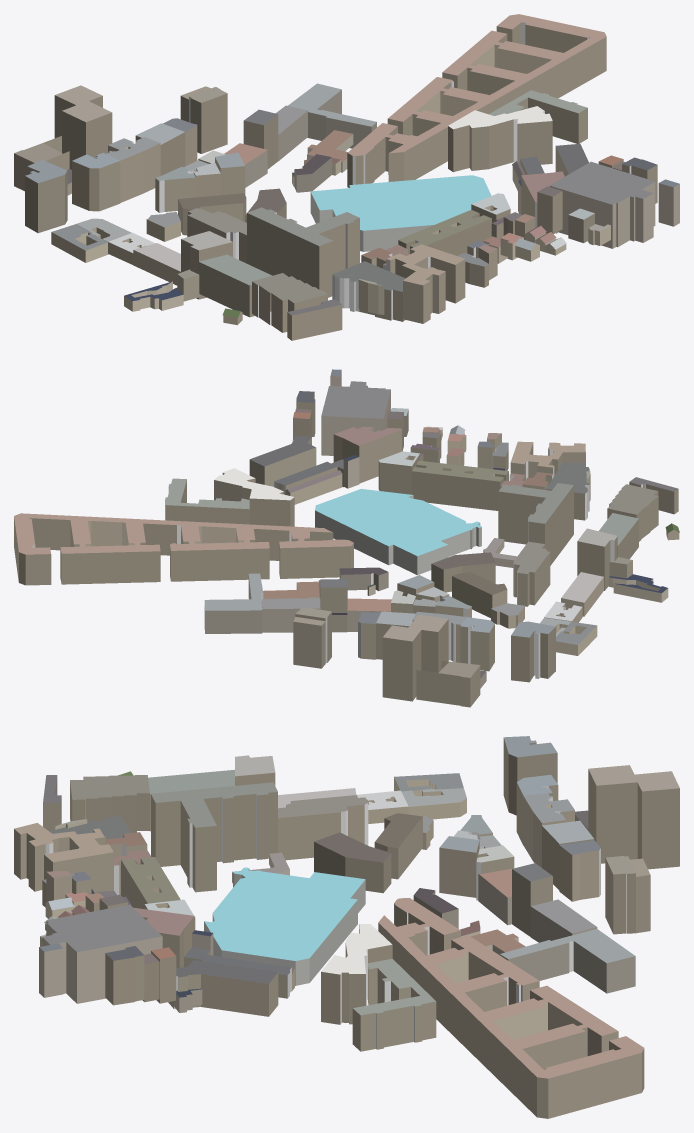
3 renders of one model, top to bottom at view 1: azimuth 30°, elevation 25°; view 2: azimuth 150°, elevation 25°; view 3: azimuth 270°, elevation 25°, orthographic. The views are drawn at different scales.
Parts seen in each view (by area): view 1: tuile; view 2: tuile; view 3: tuile.
Boxes of the visible parts, x1,y1,x2,y2 form: tuile: (14,14,679,340); tuile: (14,369,679,707); tuile: (14,736,679,1118).
Bounding box in the file's own units: 343 × 48.88 × 281.
